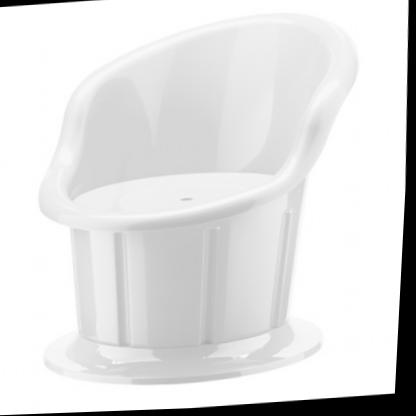Chair: (23, 5, 375, 397)
